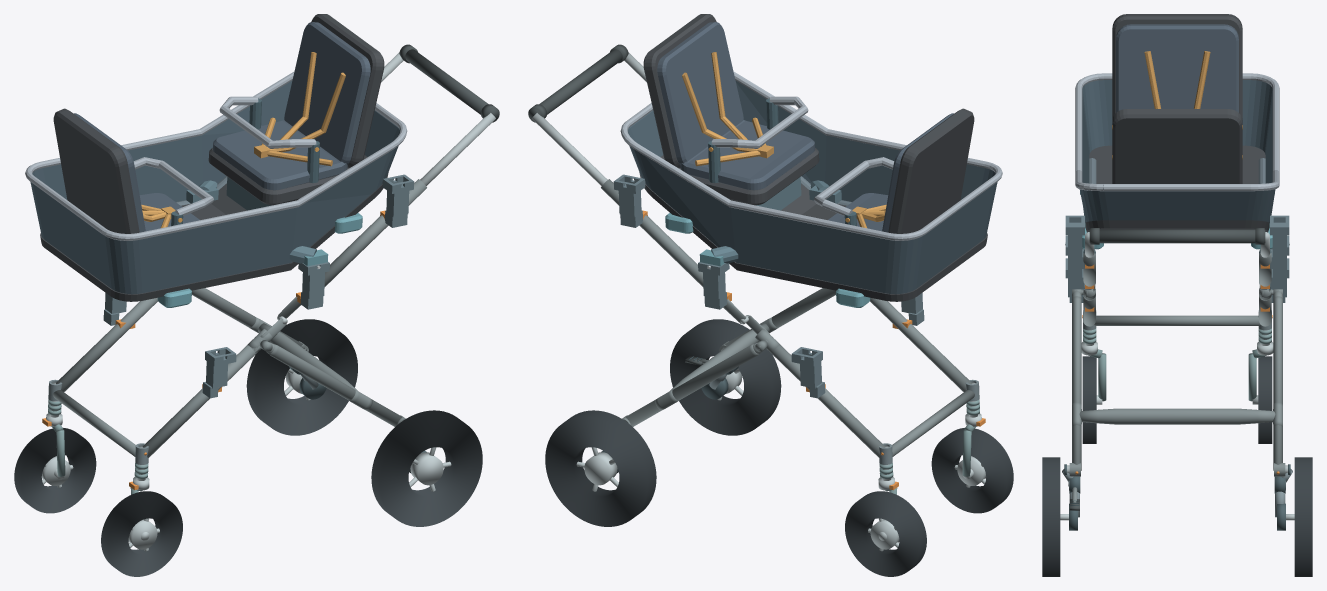
File: S11_w550_state1_wheel_M.glb
The picture shows the model from 3 angles, left to right: view 1: azimuth 30°, elevation 25°; view 2: azimuth 150°, elevation 25°; view 3: azimuth 270°, elevation 25°; orthographic projection.
Visible parts, largest first — view 1: S11_Cabin, RL_tire.002, RR_tire.002, FL_tire.002, FR_tire.002, V46_rear_leg_-1.003, main_lower_1.003, main_lower_-1.003, round_handle.002, main_upper_-1.003, Universal_Cabin_Receiver_H_-1, Universal_Cabin_Receiver_L_-1 (+7 smaller); view 2: S11_Cabin, RR_tire.002, RL_tire.002, FR_tire.002, FL_tire.002, V46_rear_leg_1.003, main_lower_-1.003, main_lower_1.003, round_handle.002, main_upper_1.003, Universal_Cabin_Receiver_H_1, Universal_Cabin_Receiver_L_1 (+7 smaller); view 3: S11_Cabin, V46_rearbar.003, round_handle.002, RL_tire.002, RR_tire.002, front_fixed_round_tube.002, V46_rear_leg_1.003, V46_rear_leg_-1.003, FL_tire.002, FR_tire.002, Universal_Cabin_Receiver_H_1, Universal_Cabin_Receiver_H_-1 (+6 smaller).
Boxes of the visible parts, x1,y1,x2,y2 form: S11_Cabin: (25,14,407,307); RL_tire.002: (371,410,482,526); RR_tire.002: (246,319,357,435); FL_tire.002: (101,491,182,576); FR_tire.002: (14,428,96,513); V46_rear_leg_-1.003: (269,344,402,426); main_lower_1.003: (56,298,157,391); main_lower_-1.003: (142,345,260,457); round_handle.002: (405,49,498,120); main_upper_-1.003: (324,179,426,286); Universal_Cabin_Receiver_H_-1: (382,174,414,227); Universal_Cabin_Receiver_L_-1: (202,347,236,398); S11_Cabin: (620,14,1002,307); RR_tire.002: (545,410,656,526); RL_tire.002: (670,319,781,435); FR_tire.002: (845,491,926,576); FL_tire.002: (931,428,1013,513); V46_rear_leg_1.003: (625,344,758,426); main_lower_-1.003: (870,298,971,391); main_lower_1.003: (767,345,885,457); round_handle.002: (529,49,622,120); main_upper_1.003: (601,179,703,286); Universal_Cabin_Receiver_H_1: (613,174,645,227); Universal_Cabin_Receiver_L_1: (791,347,825,398); S11_Cabin: (1075,14,1279,249); V46_rearbar.003: (1079,408,1275,424); round_handle.002: (1089,229,1265,243); RL_tire.002: (1042,457,1060,576); RR_tire.002: (1294,457,1312,576); front_fixed_round_tube.002: (1094,315,1260,325); V46_rear_leg_1.003: (1273,296,1282,470); V46_rear_leg_-1.003: (1072,296,1081,470); FL_tire.002: (1082,356,1096,443); FR_tire.002: (1258,356,1272,443); Universal_Cabin_Receiver_H_1: (1270,215,1289,268); Universal_Cabin_Receiver_H_-1: (1065,215,1084,268).
Bounding box in the file's own units: 1.16 × 1.25 × 0.6771.
